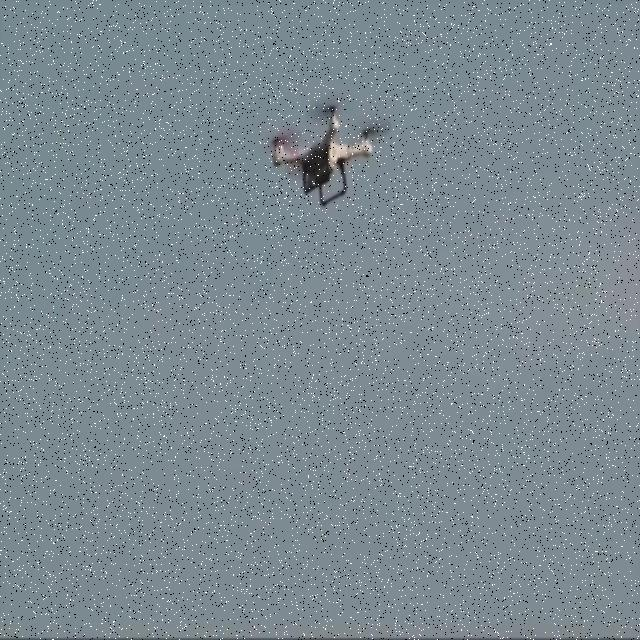UAV: (270, 100, 374, 210)
